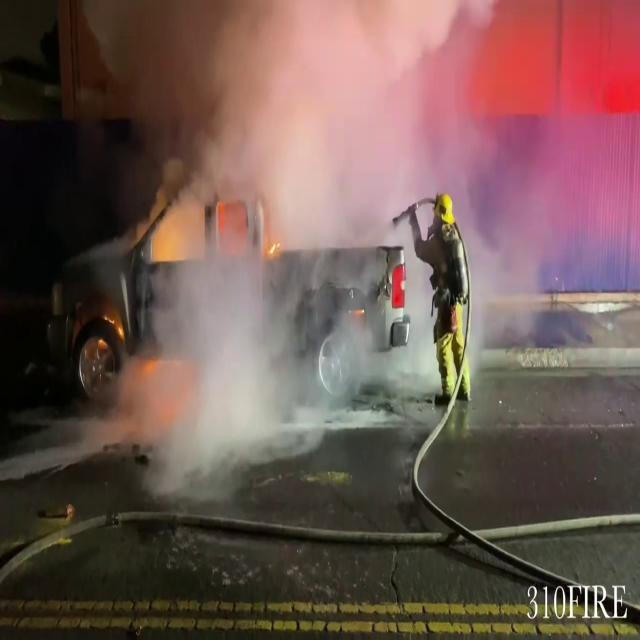Smoke: (91, 0, 522, 476)
